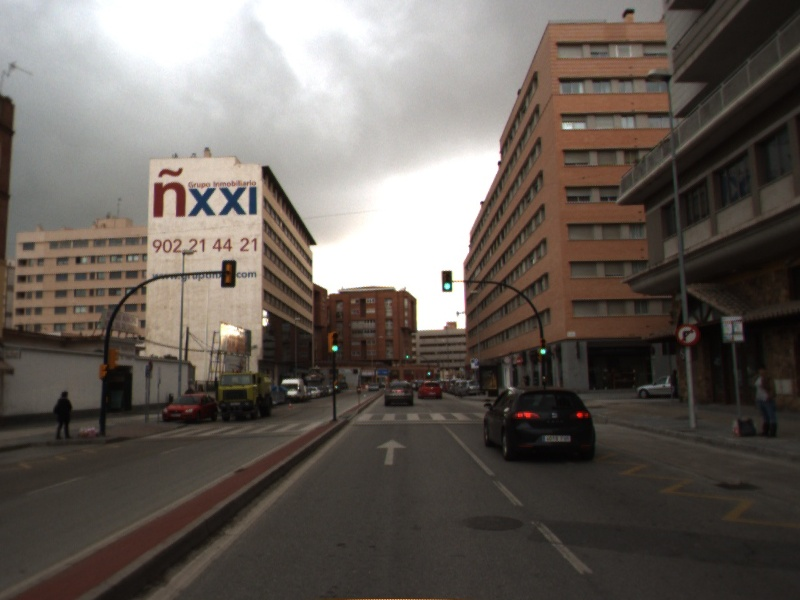STRAIGHT: (375, 437, 409, 467)
